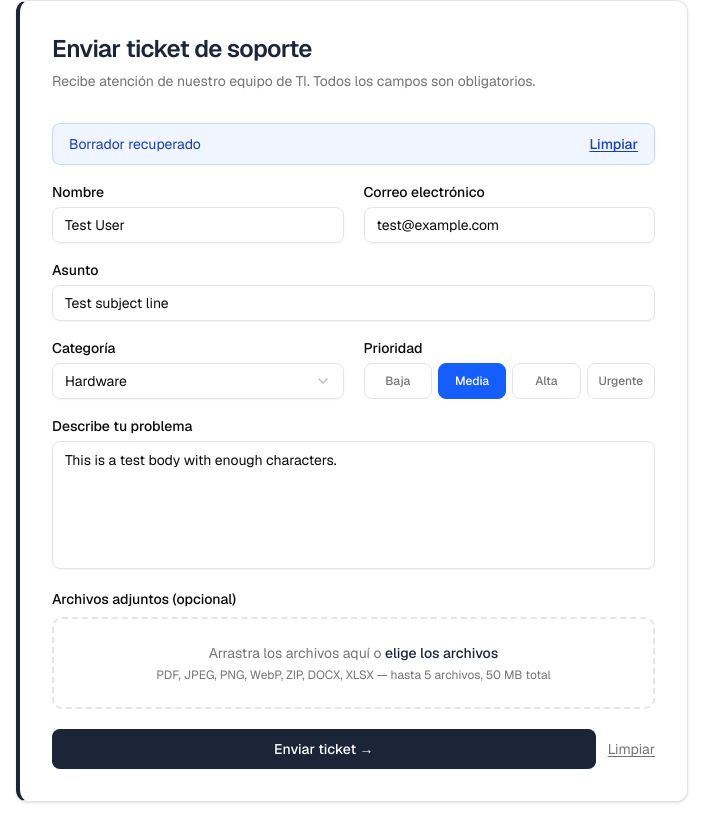
Test: Confirm clear › removes localStorage key and dismisses banner on confirm
Expected: the text "Borrador recuperado" is shown, x1=69 y1=134 x2=201 y2=154
Note: Use the action-row "Limpiar" (last of the two buttons)
What coordinates should you click on to do the following:
click the 2nd button "Limpiar"
I would click on:
 (631, 749)
Its box is x1=608 y1=739 x2=655 y2=759.
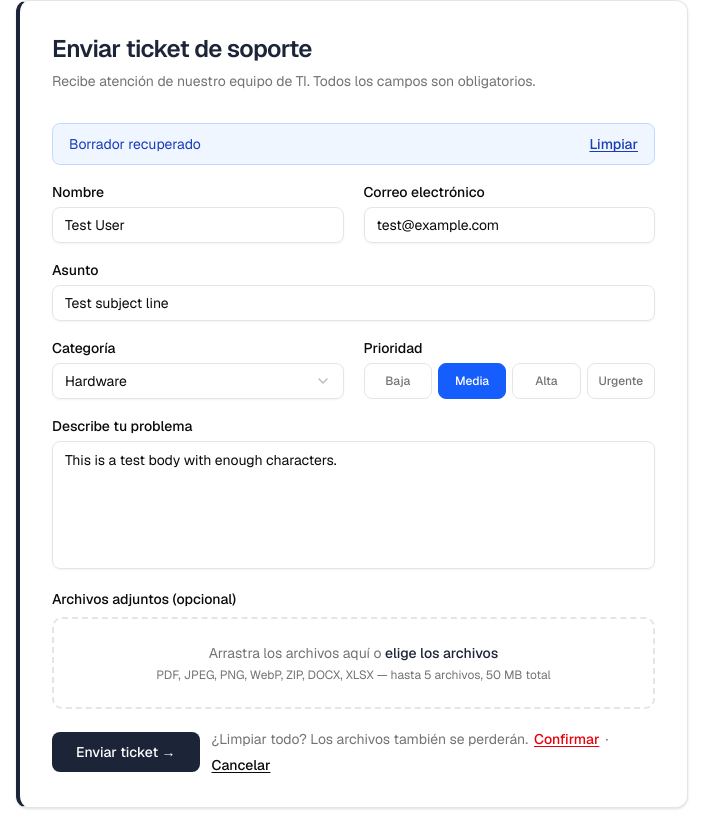
What coordinates should you click on to do the following:
click the button "Confirmar"
I would click on:
 (567, 739)
Its box is x1=534 y1=729 x2=599 y2=749.
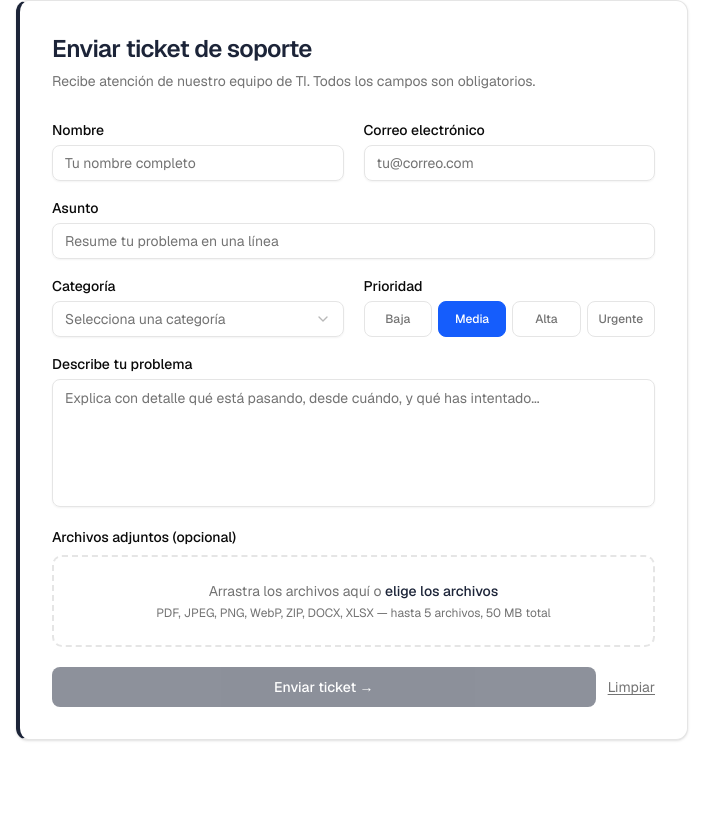
Result: the text "Borrador recuperado" is gone
